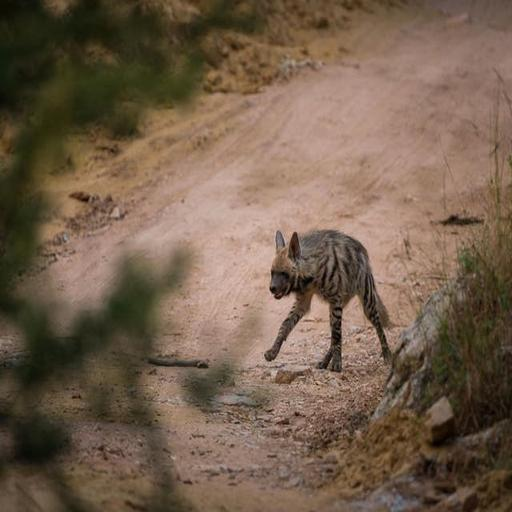Hyena: (248, 211, 405, 388)
